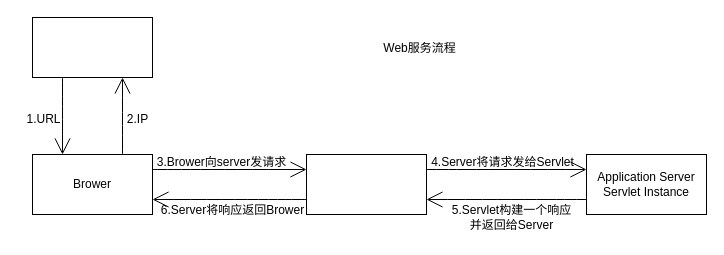
The diagram is 724 pixels wide and 255 high, and some of its shapes have lost their labels. Each missing label, with the centre of its shape:
"DNS Server" goes at (x=92, y=47).
"Web Server" goes at (x=366, y=184).
